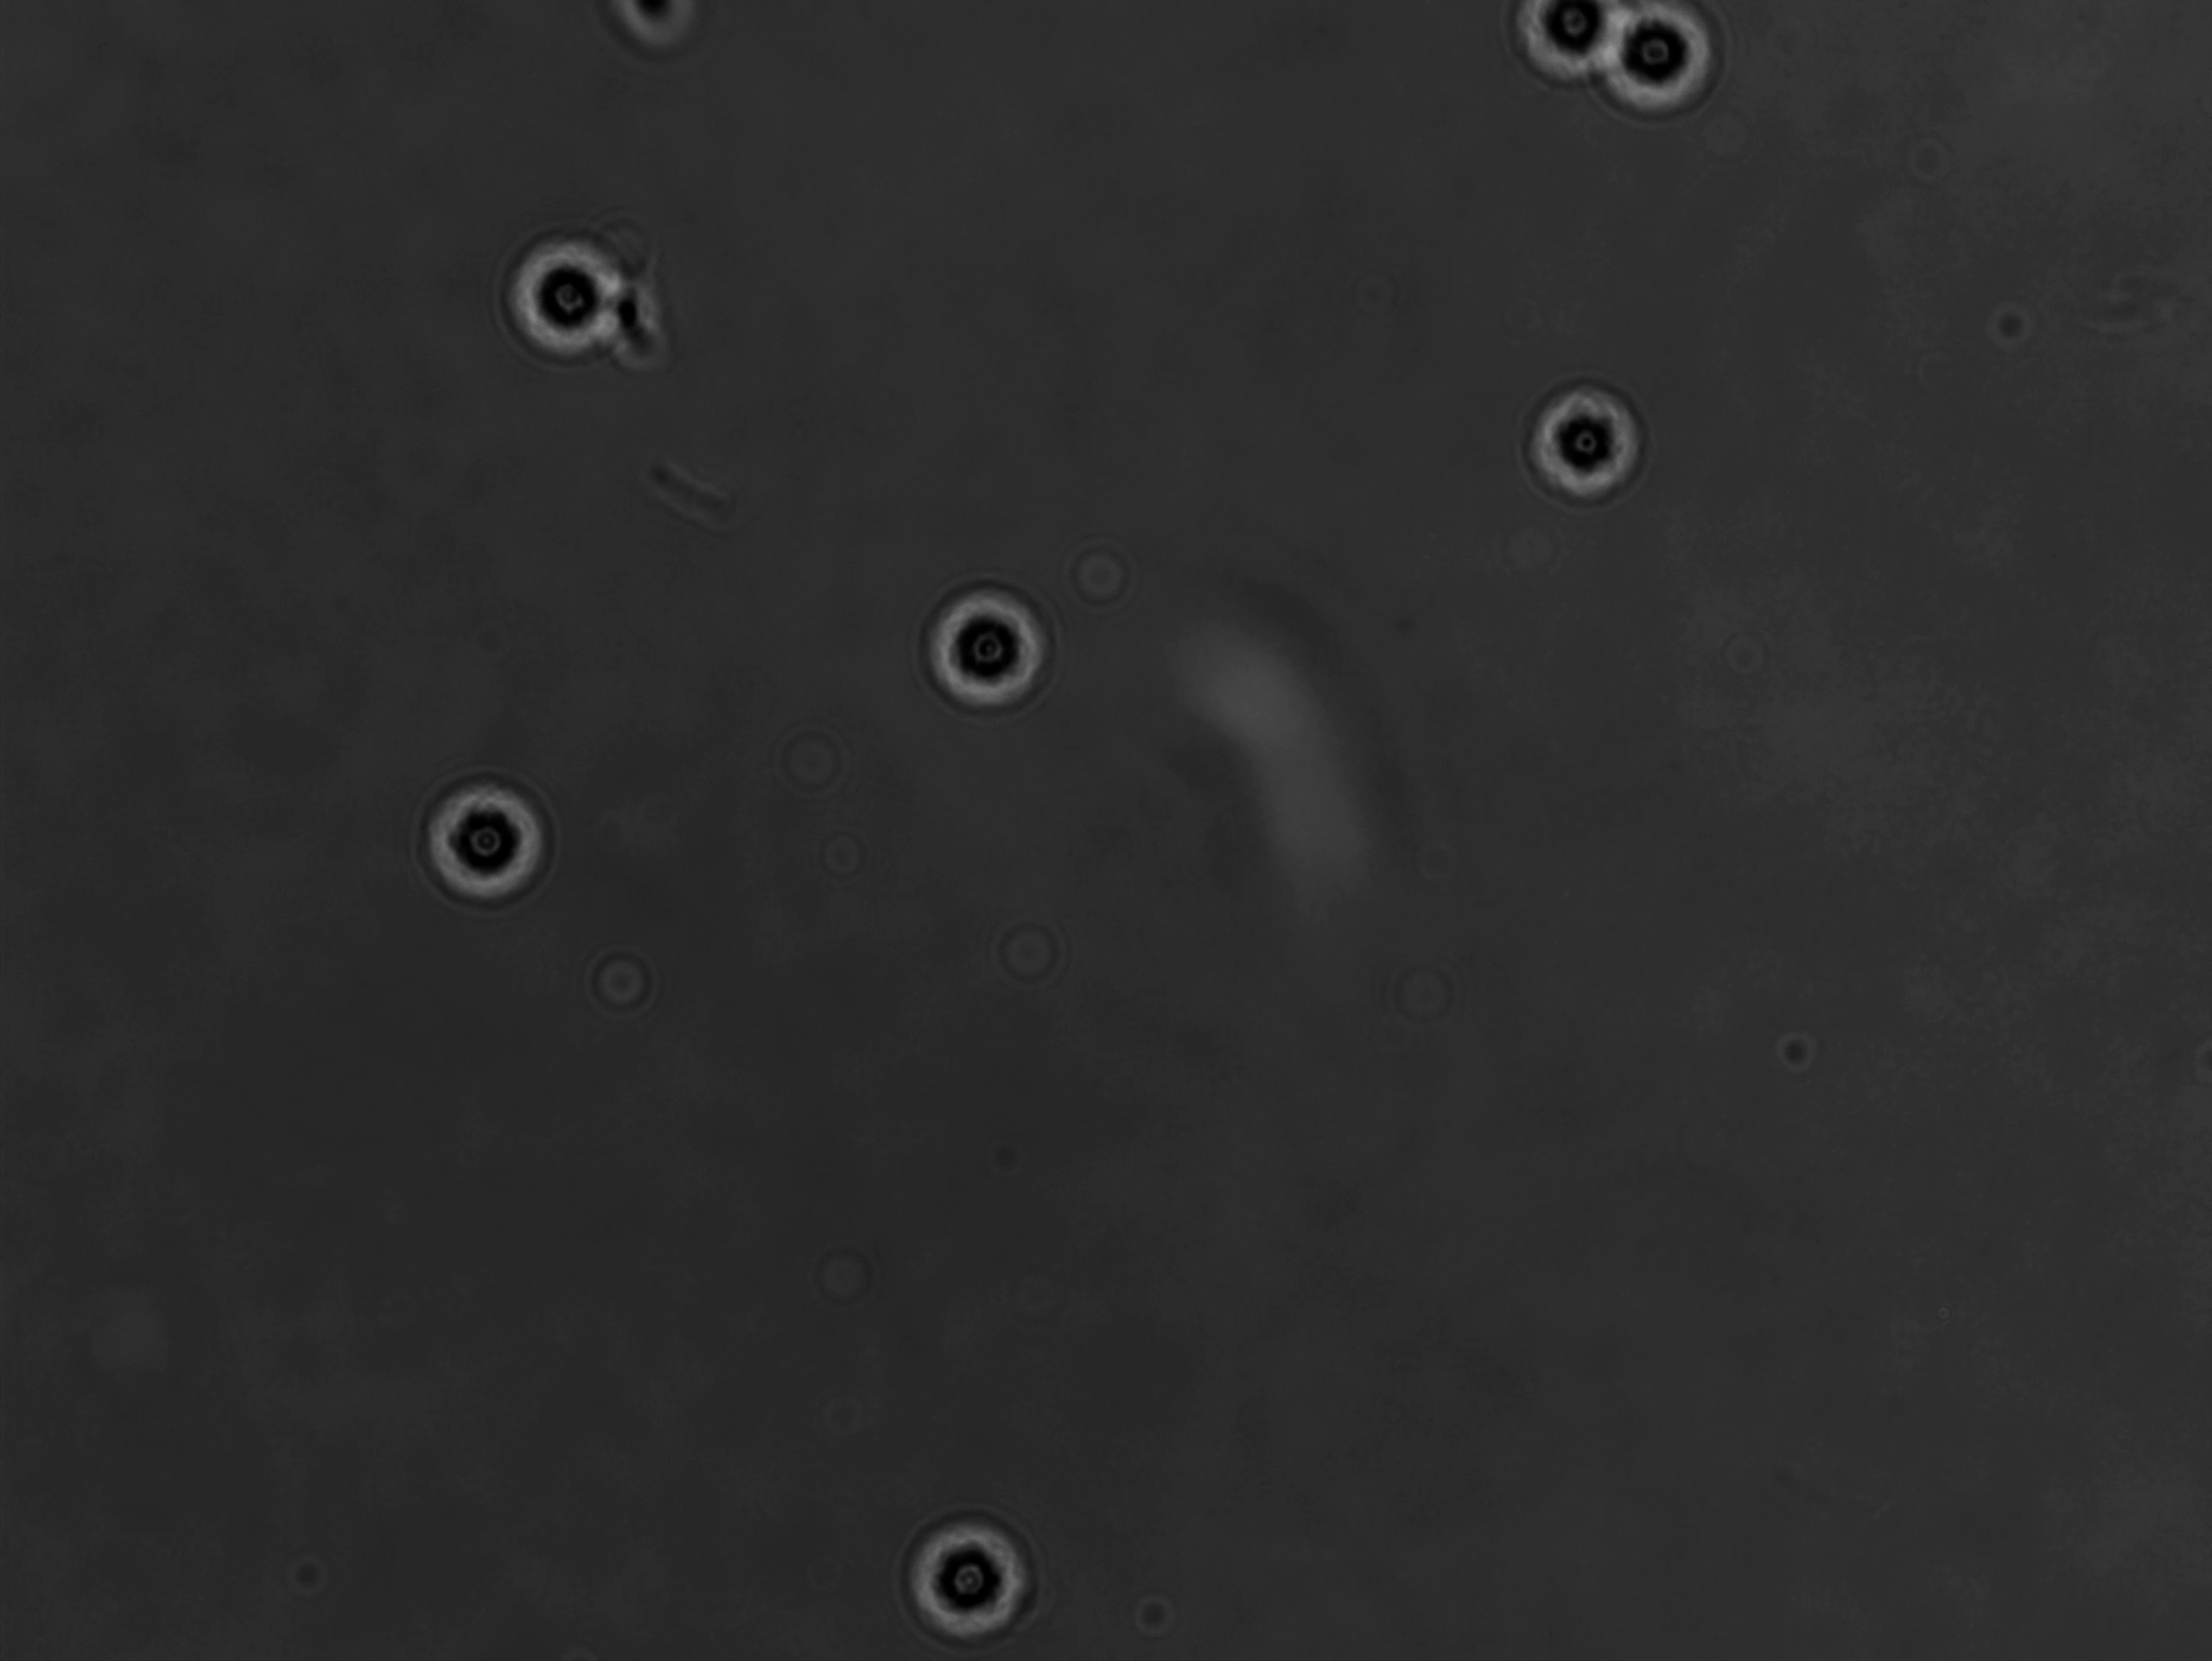depth:-20: (1500, 349, 1669, 525), (487, 215, 663, 368), (410, 755, 574, 914), (883, 1494, 1043, 1649), (912, 558, 1064, 717)
